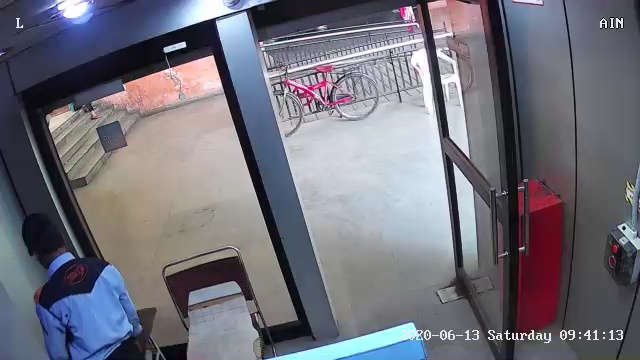open: (202, 5, 549, 359)
